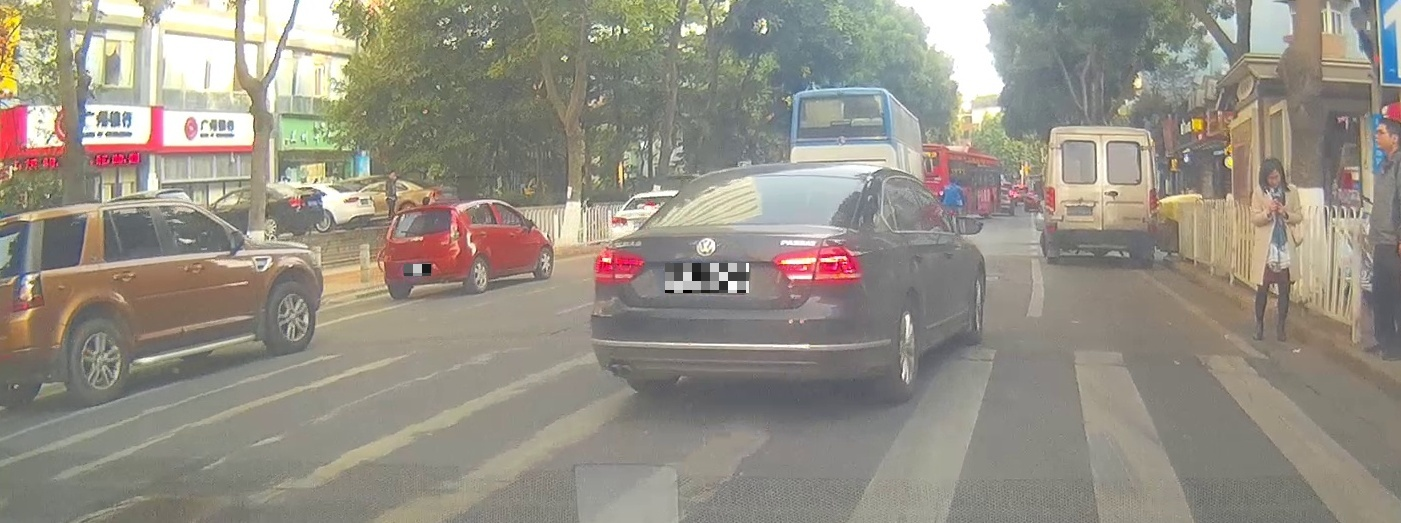L_light: (594, 248, 645, 287), (1044, 186, 1055, 214), (383, 245, 401, 256)
R_light: (772, 244, 862, 285), (1149, 187, 1159, 214), (441, 235, 457, 245)
T_light: (1095, 138, 1113, 147), (419, 211, 429, 214)
day-no: (591, 162, 873, 404), (1045, 125, 1158, 267), (384, 206, 463, 300)
plate_1: (404, 264, 431, 276)
plate_2: (665, 263, 749, 293)
